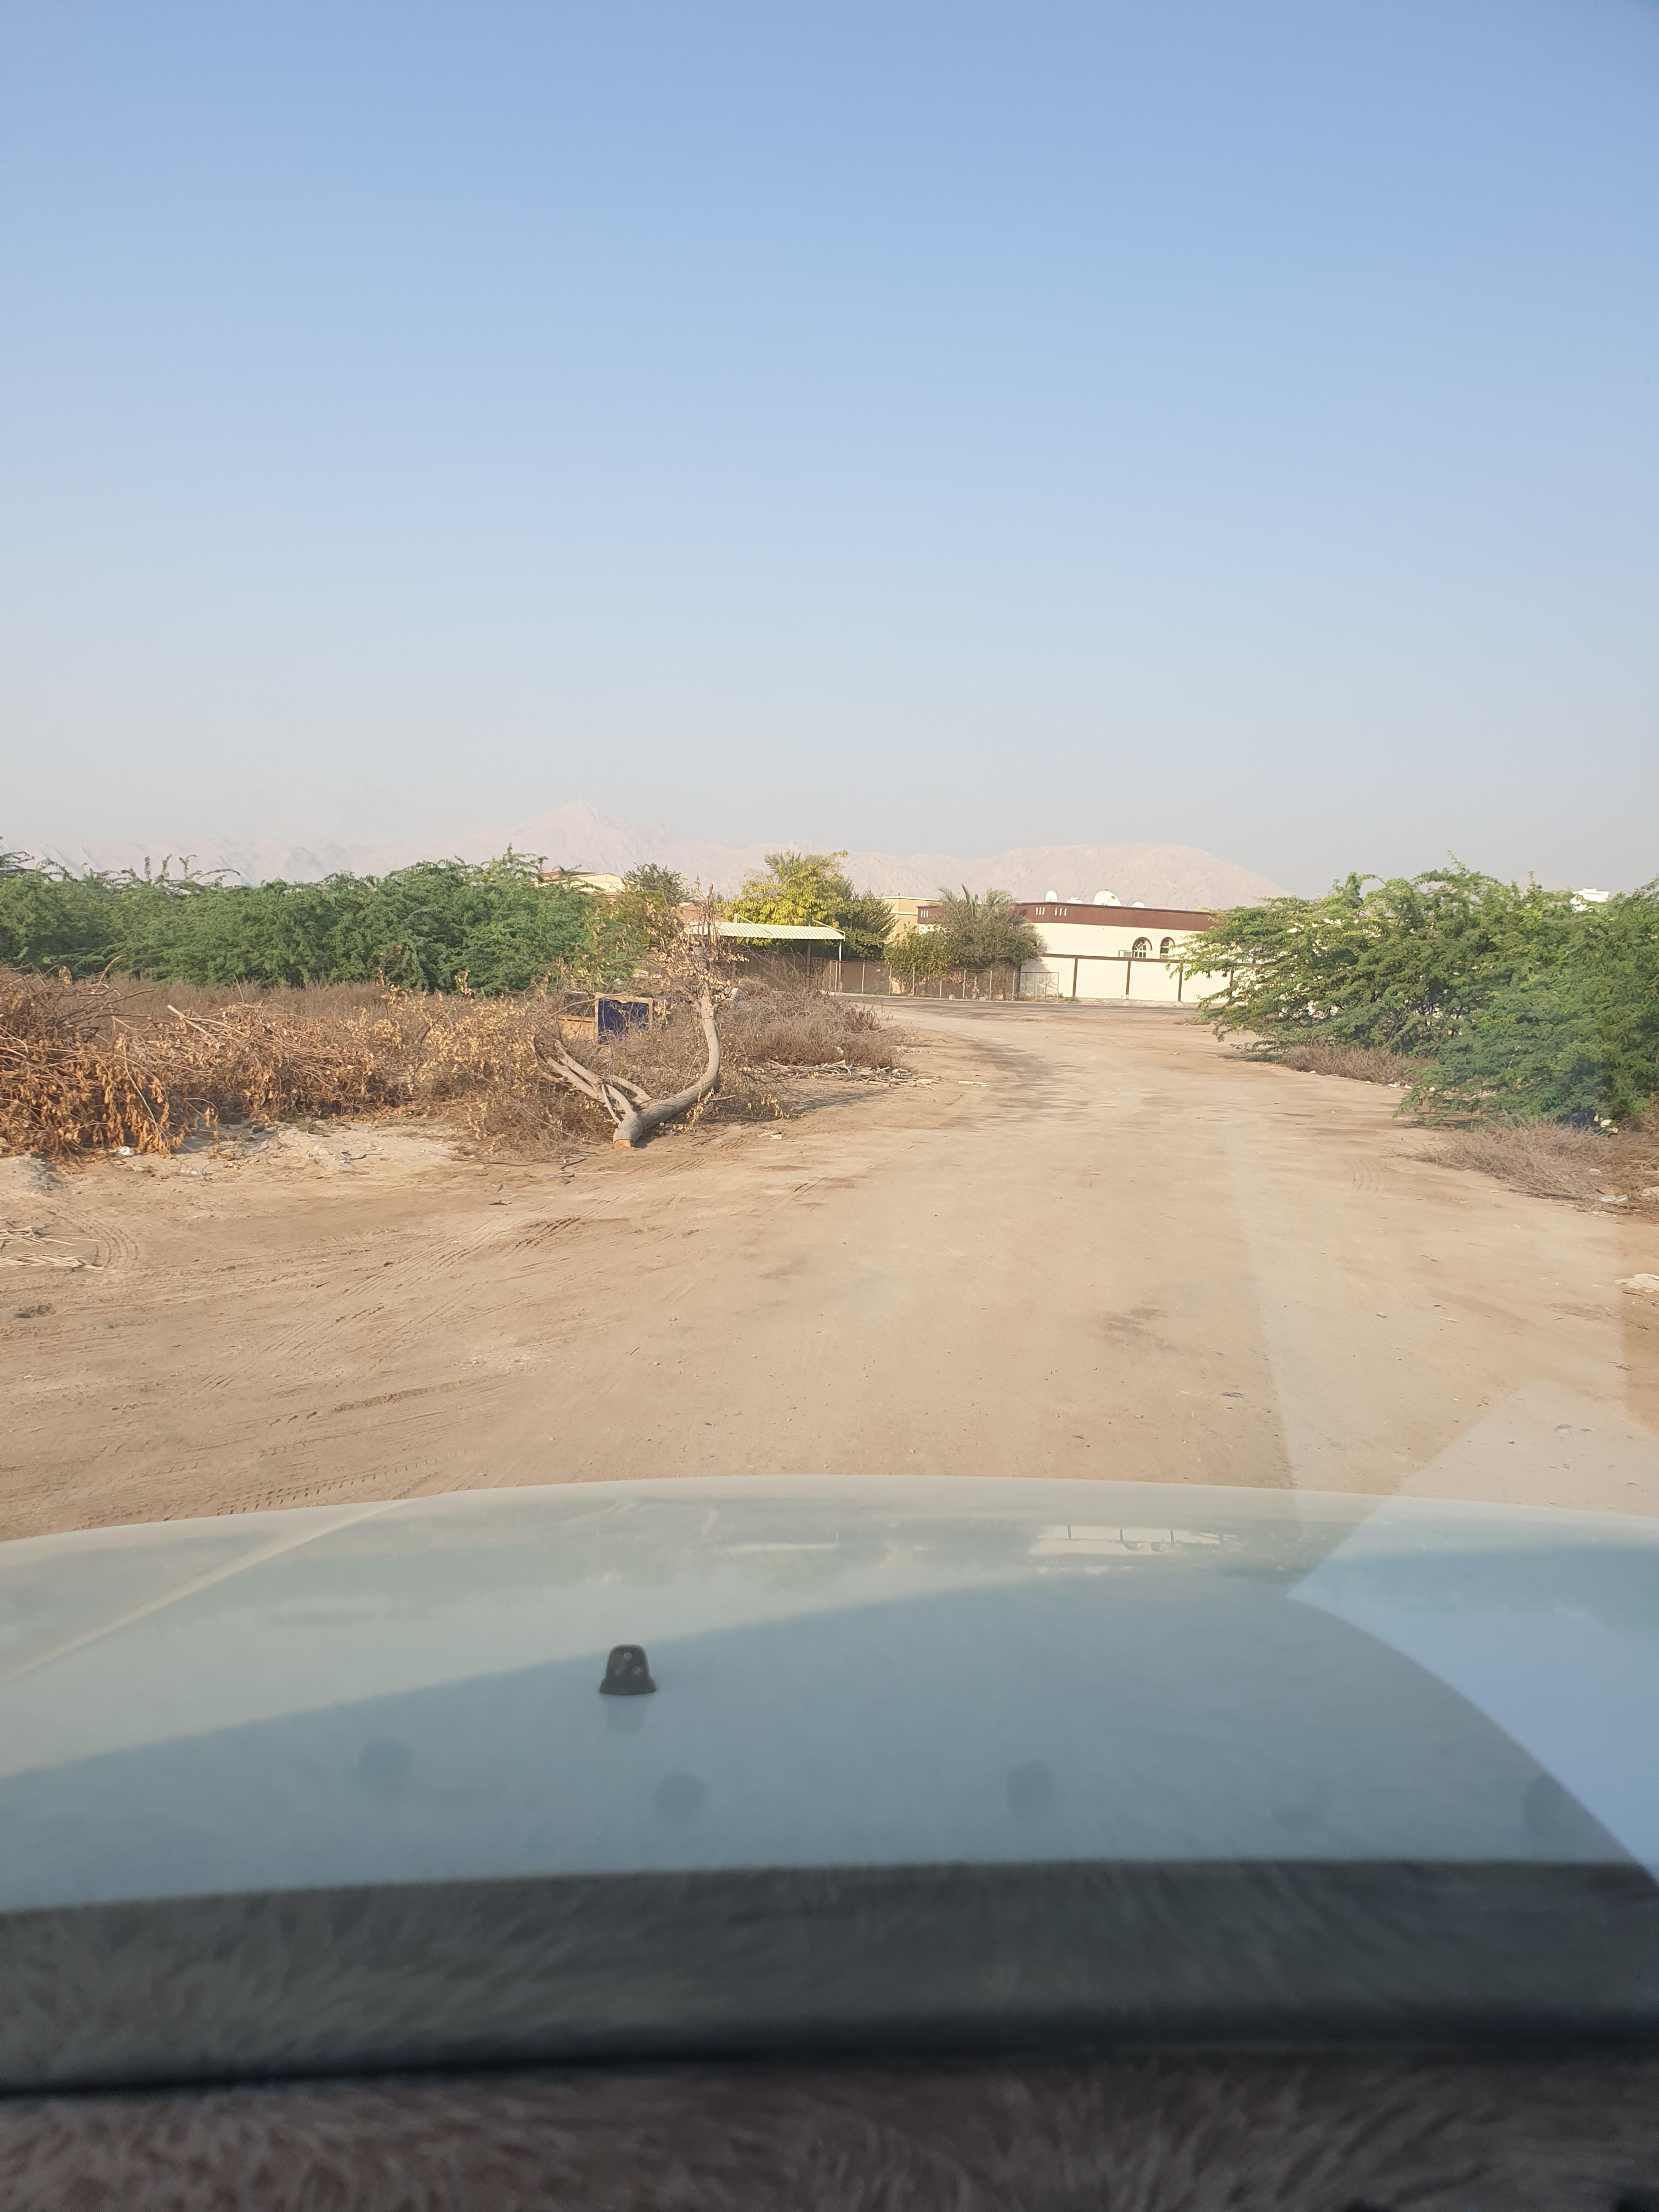fallen_trees: (483, 1049, 823, 1184), (308, 1064, 528, 1163), (781, 1031, 951, 1113)
